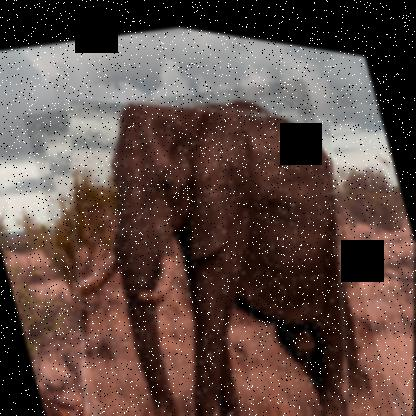Elephas-maximus: (19, 33, 400, 415)
